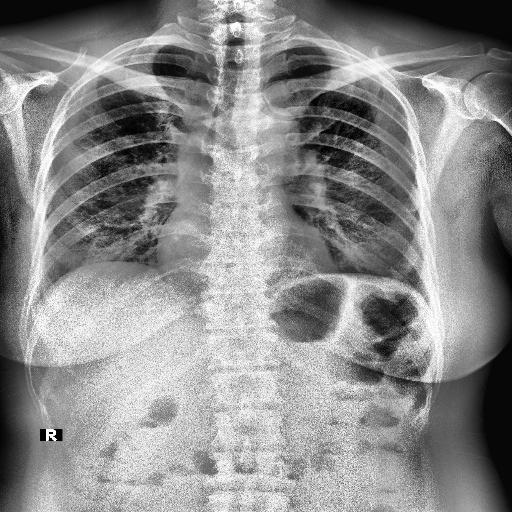0- Aortic enlargement: (171, 108, 298, 210), (178, 110, 300, 198), (247, 108, 300, 158)
